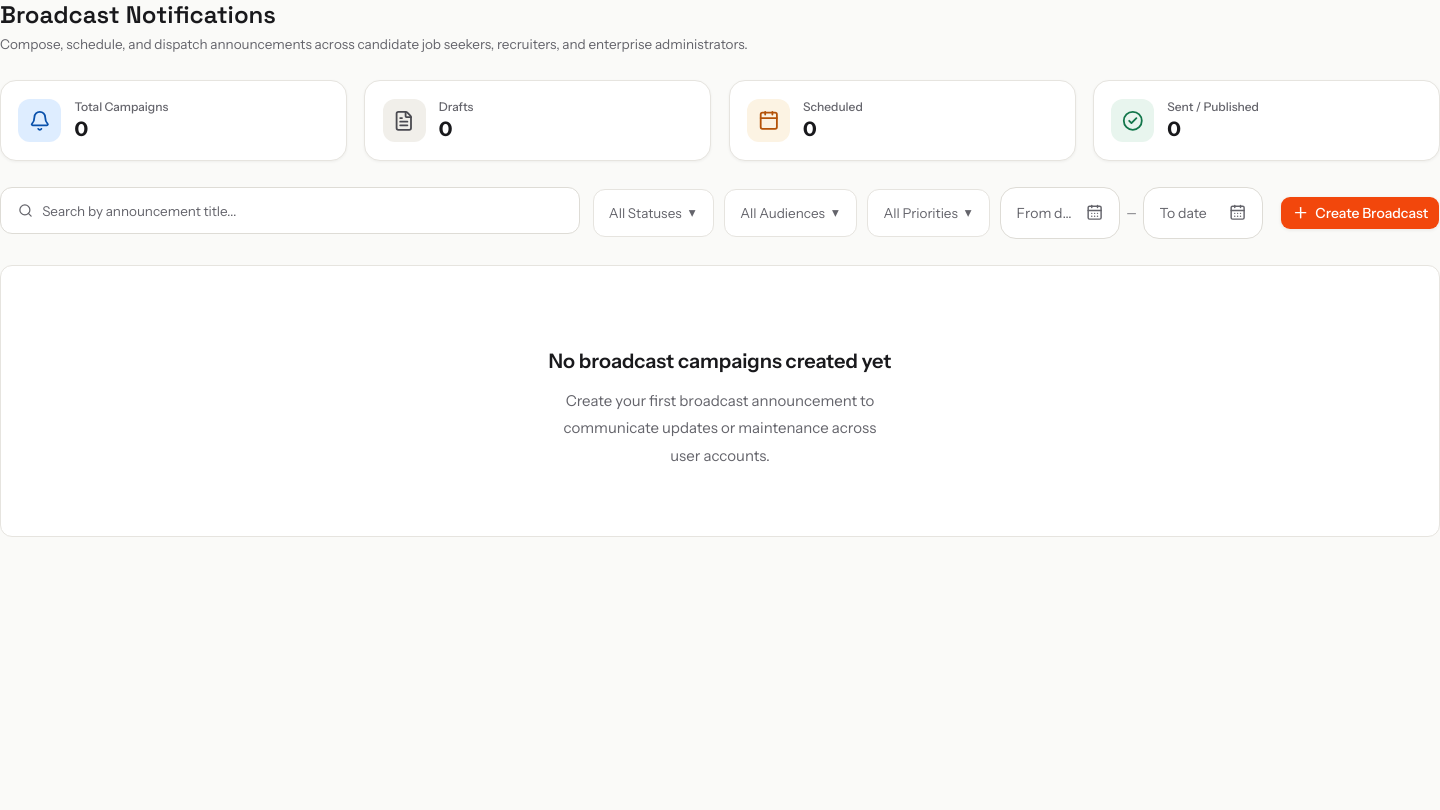
Test case: Broadcast Notifications Feature Tests (UC 01 - UC 07) › validates required field lengths on submission
The image size is (1440, 810).
Click the button "Create Broadcast". click: coordinates (1360, 213)
box: [1280,196,1439,230]
(page scrolled)
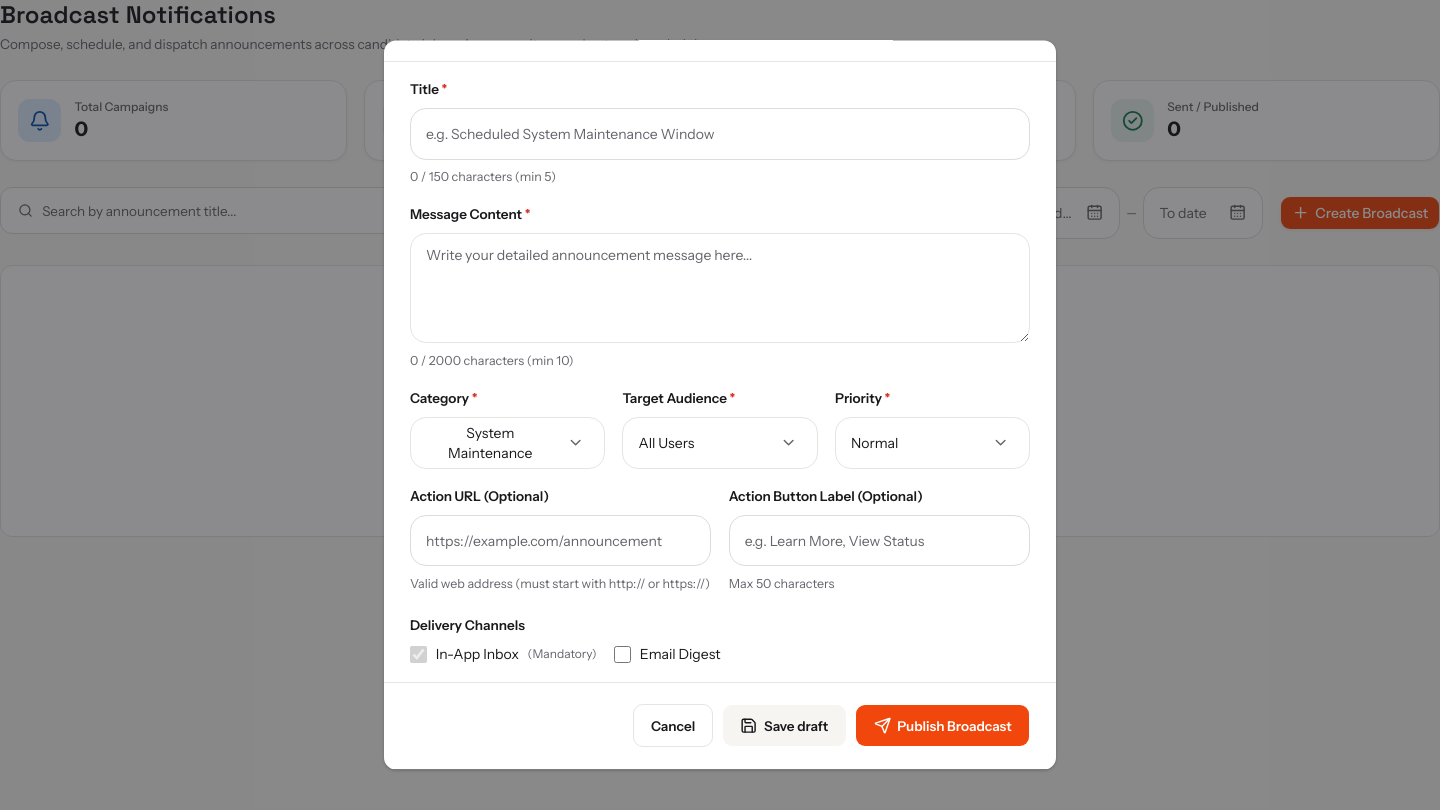
Note: Try submitting empty form
Click the button "Publish Broadcast". click: coordinates (943, 726)
box: [855,705,1030,748]
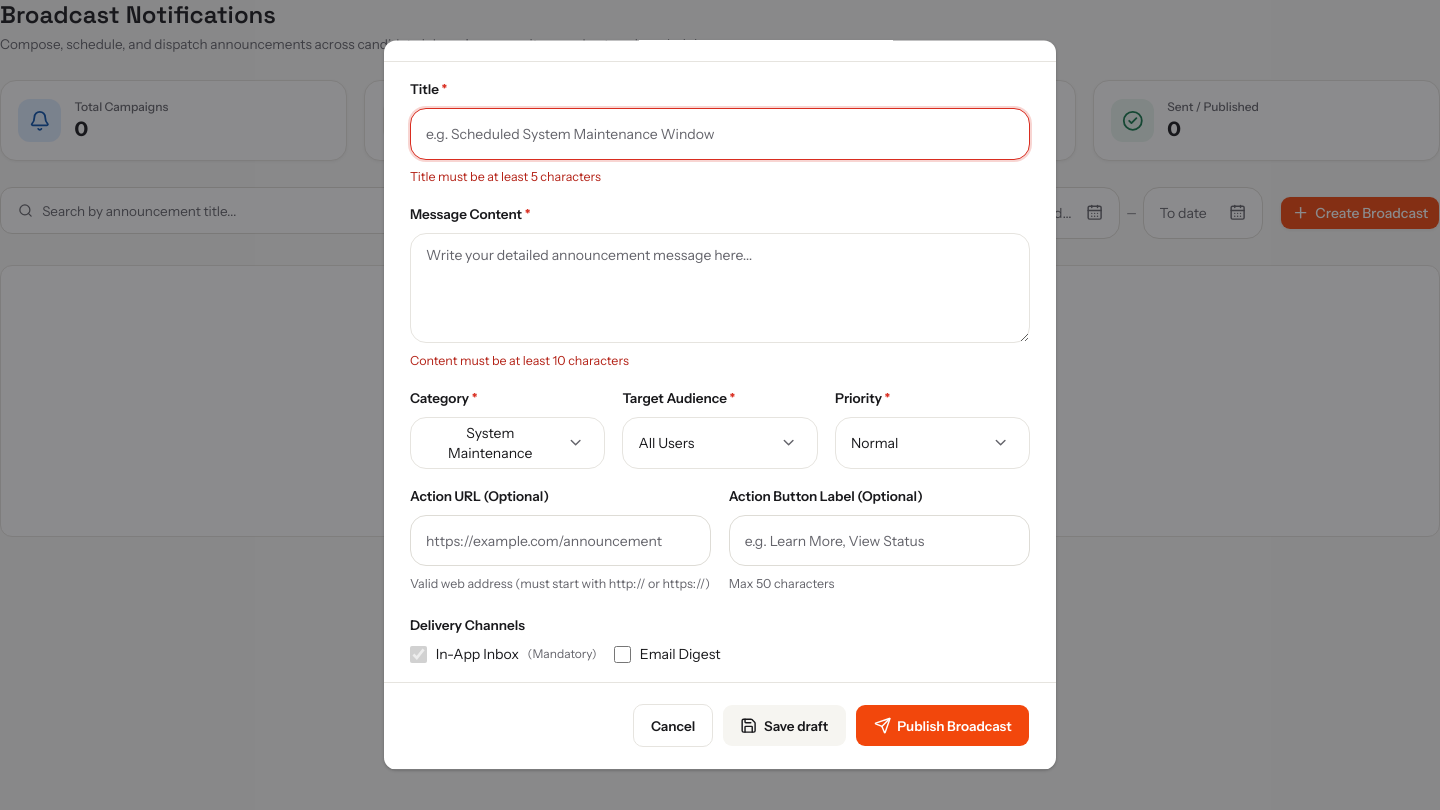
Expected: the text "Title must be at least 5 characters" is shown, [410,170,601,185]
